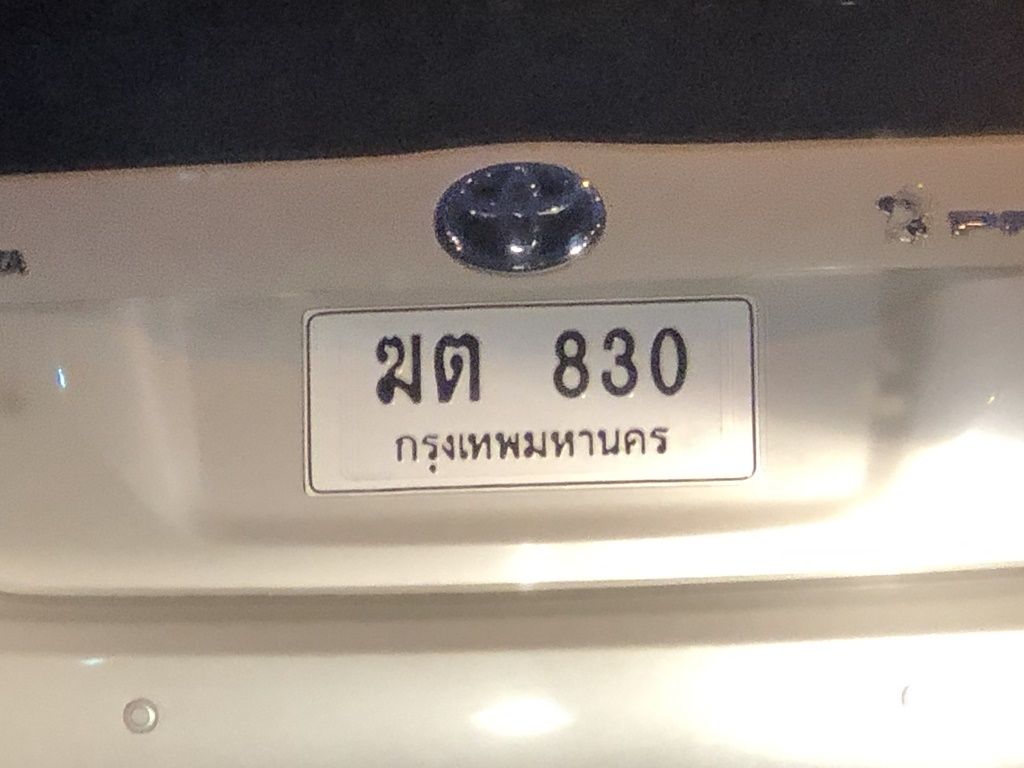zero: (638, 314, 699, 405)
